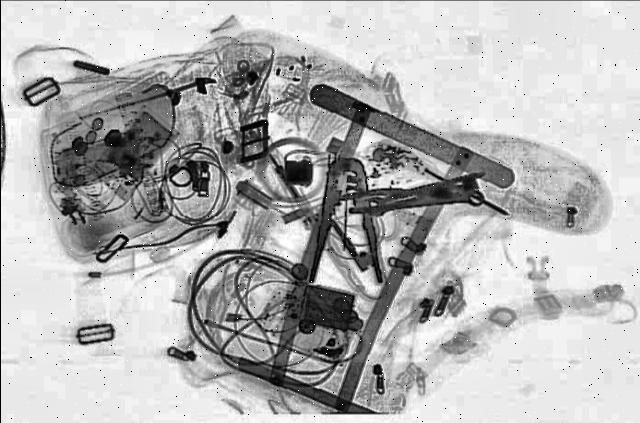Pliers: (309, 156, 385, 284)
